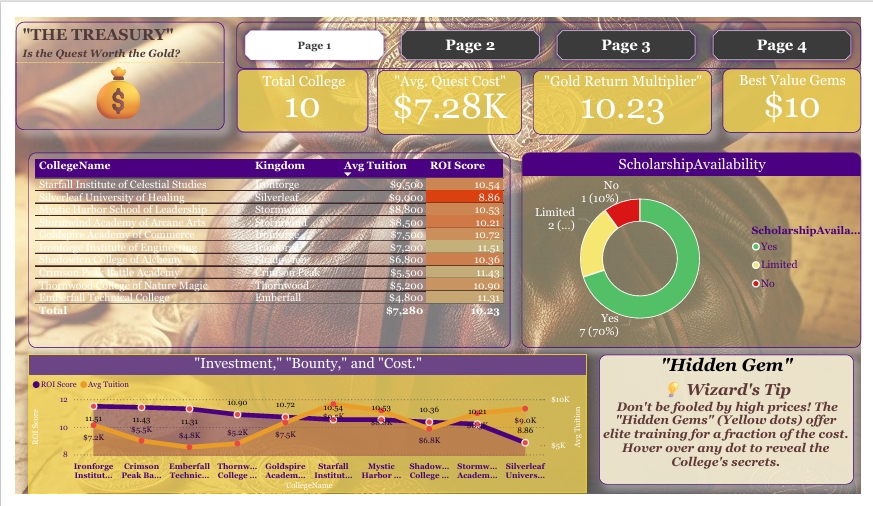

Layout of this report page (visuals, bound fields, positions):
{"tool":"powerbi","page":{"name":"Page 1","canvas":[1280,720],"ordinal":0},"visuals":[{"type":"card","title":"\"Avg. Quest Cost\"","fields":{"Values":["College_Profiles.Avg Tuition"]},"box":[547.1,78.6,218.6,98.6],"z":0},{"type":"card","title":"\"Gold Return Multiplier\"","fields":{"Values":["College_Profiles.ROI Score"]},"box":[782.9,78.6,271.4,98.6],"z":1000},{"type":"card","title":"Total College","fields":{"Values":["College_Profiles.Total Colleges"]},"box":[334.3,77.1,200,97.1],"z":2000},{"type":"donutChart","title":"ScholarshipAvailability","fields":{"Y":["CountNonNull(College_Profiles.CollegeID)"],"Category":["College_Profiles.ScholarshipAvailability"]},"box":[765.7,204.3,514.3,295.7],"z":3000},{"type":"tableEx","fields":{"Values":["College_Profiles.CollegeName","College_Profiles.Kingdom","College_Profiles.Avg Tuition","College_Profiles.ROI Score"]},"box":[18.6,204.3,730,295.7],"z":4000},{"type":"textbox","title":"                                  \"THE TREASURY\" ","box":[0,5.7,315.7,164.3],"z":5000},{"type":"lineChart","title":"\"Investment,\" \"Bounty,\" and \"Cost.\"","fields":{"Y":["College_Profiles.ROI Score"],"Category":["College_Profiles.CollegeName"],"Y2":["College_Profiles.Avg Tuition"]},"box":[18.6,510,845.7,210],"z":6000},{"type":"textbox","title":"\"Hidden Gem\"","box":[882.9,510,385.7,197.1],"z":7000},{"type":"card","title":"Best Value Gems","fields":{"Values":["College_Profiles.Affordable Colleges"]},"box":[1070,77.1,210,97.1],"z":8000},{"type":"pageNavigator","box":[334.3,5.7,945.7,71.4],"z":9000},{"type":"textbox","box":[51.4,51.4,207.1,125.7],"z":10000}]}

Visuals, with their boxes in screenshot pixels (x1, y1, x2, y2), scaled from the page's 1280x720 canvas onto the 873x506 screenshot:
""Avg. Quest Cost"" card: (373, 55, 522, 125)
""Gold Return Multiplier"" card: (534, 55, 719, 125)
"Total College" card: (228, 54, 364, 122)
"ScholarshipAvailability" donutChart: (522, 144, 872, 351)
tableEx - College_Profiles.CollegeName x College_Profiles.Kingdom: (13, 144, 511, 351)
"                                  "THE TREASURY" " textbox: (0, 4, 215, 119)
""Investment," "Bounty," and "Cost."" lineChart: (13, 358, 589, 505)
""Hidden Gem"" textbox: (602, 358, 865, 497)
"Best Value Gems" card: (730, 54, 872, 122)
pageNavigator: (228, 4, 872, 54)
textbox: (35, 36, 176, 124)
